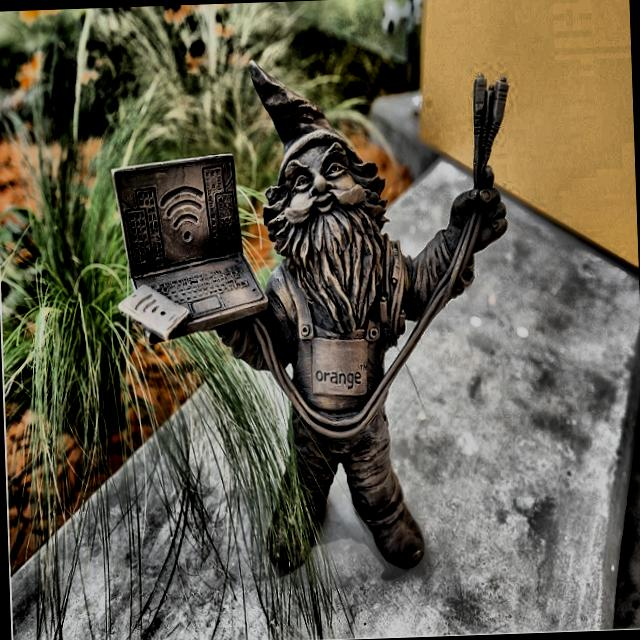Krasnal_Teleclaw: (114, 62, 507, 570)
